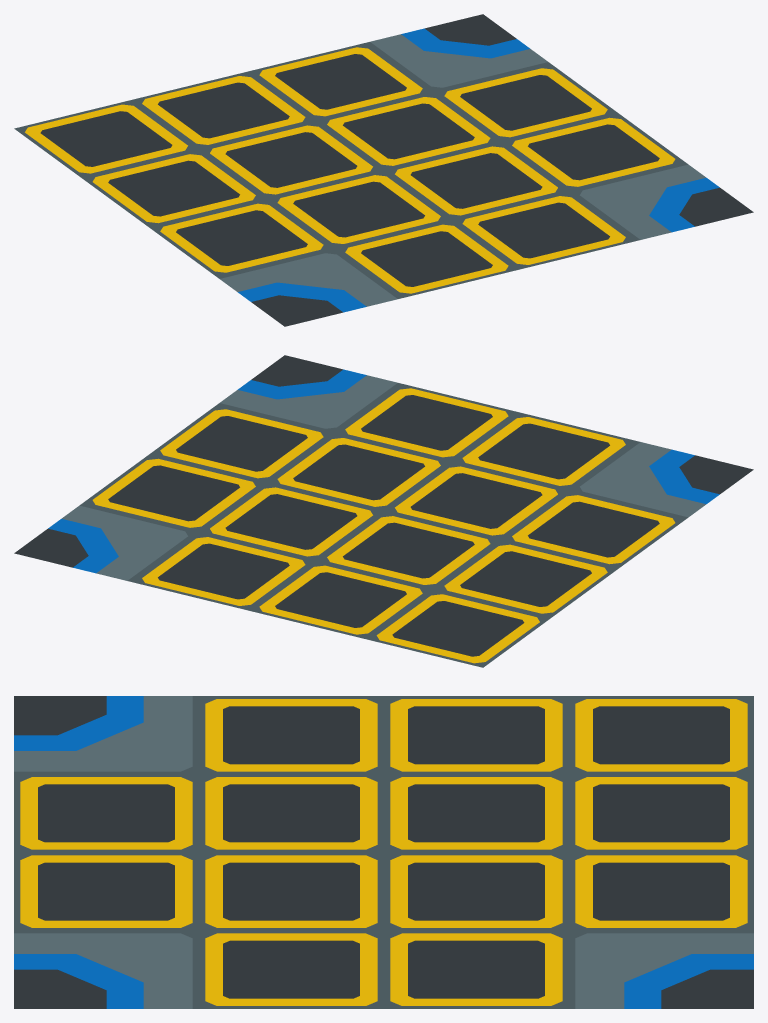
Rendered from Floor_type_C_011.glb.
3 views of the same model, one above another, from view 1: azimuth 30°, elevation 25°; view 2: azimuth 150°, elevation 25°; view 3: azimuth 270°, elevation 25° (orthographic). The views are drawn at different scales.
Visible parts, largest first — view 1: Floor_type_C_011; view 2: Floor_type_C_011; view 3: Floor_type_C_011.
Boxes of the visible parts, x1=… form: Floor_type_C_011: x1=14, y1=14, x2=753, y2=326; Floor_type_C_011: x1=14, y1=355, x2=753, y2=667; Floor_type_C_011: x1=14, y1=696, x2=753, y2=1008.
Size of the model in its own units: 4 by 3.88e-23 by 4.
Materials: 2 (2 with a texture image).
